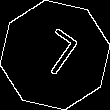L_SW: (28, 26, 82, 84)
